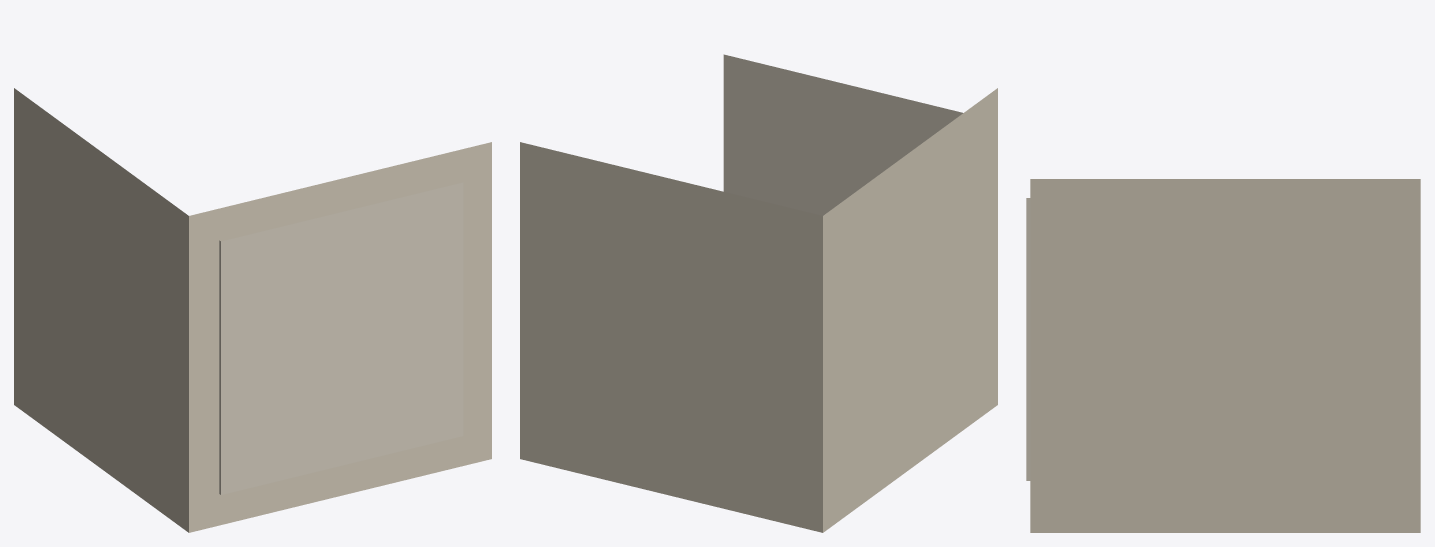
The model's file is Wall-cream.glb.
The picture shows the model from 3 angles, left to right: view 1: azimuth 30°, elevation 25°; view 2: azimuth 150°, elevation 25°; view 3: azimuth 270°, elevation 25°; orthographic projection. The views are drawn at different scales.
Parts seen in each view (by area): view 1: Wall; view 2: Wall; view 3: Wall.
Boxes of the visible parts, x1,y1,x2,y2 form: Wall: (14, 88, 491, 532); Wall: (520, 54, 997, 532); Wall: (1026, 179, 1420, 532).
Size of the model in its own units: 1 by 1 by 1.01.
